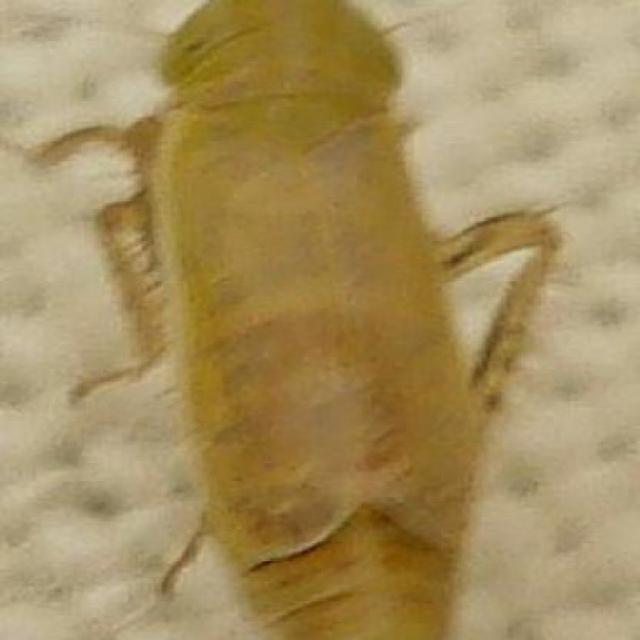green-leafhopper: (130, 0, 542, 640)
